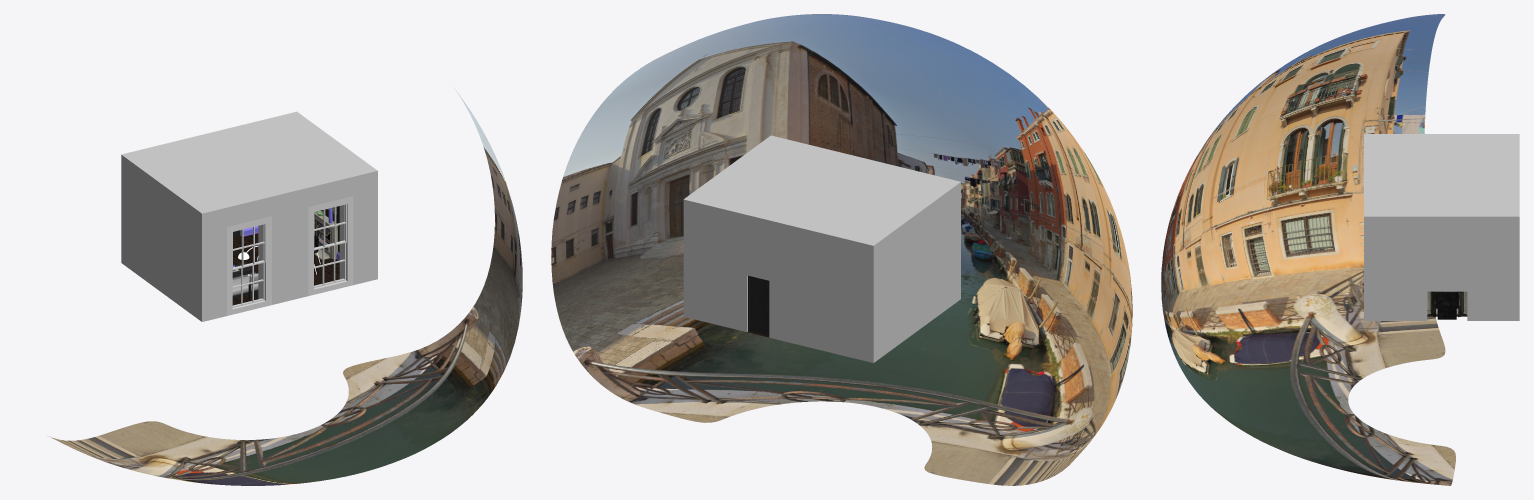
The model's file is global_illumination.gltf.
The picture shows the model from 3 angles, left to right: view 1: azimuth 30°, elevation 25°; view 2: azimuth 150°, elevation 25°; view 3: azimuth 270°, elevation 25°; orthographic projection. The views are drawn at different scales.
Visible parts, largest first — view 1: wals, wndow_env, window_frame_1.001, window_frame_1, wals.010, fireplace; view 2: wndow_env, wals, wals.001; view 3: wndow_env, wals, fireplace.
Boxes of the visible parts, <box> form: wals: <box>121,111,377,321</box>; wndow_env: <box>47,87,522,485</box>; window_frame_1.001: <box>308,196,353,295</box>; window_frame_1: <box>227,216,271,315</box>; wals.010: <box>232,233,339,305</box>; fireplace: <box>314,211,338,259</box>; wndow_env: <box>551,14,1132,485</box>; wals: <box>683,135,960,362</box>; wals.001: <box>748,275,769,336</box>; wndow_env: <box>1161,14,1455,485</box>; wals: <box>1364,134,1519,320</box>; fireplace: <box>1427,291,1467,319</box>.
Bounding box in the file's own units: 19.69 × 13.68 × 12.89.
Materials: 37 (22 with a texture image).
